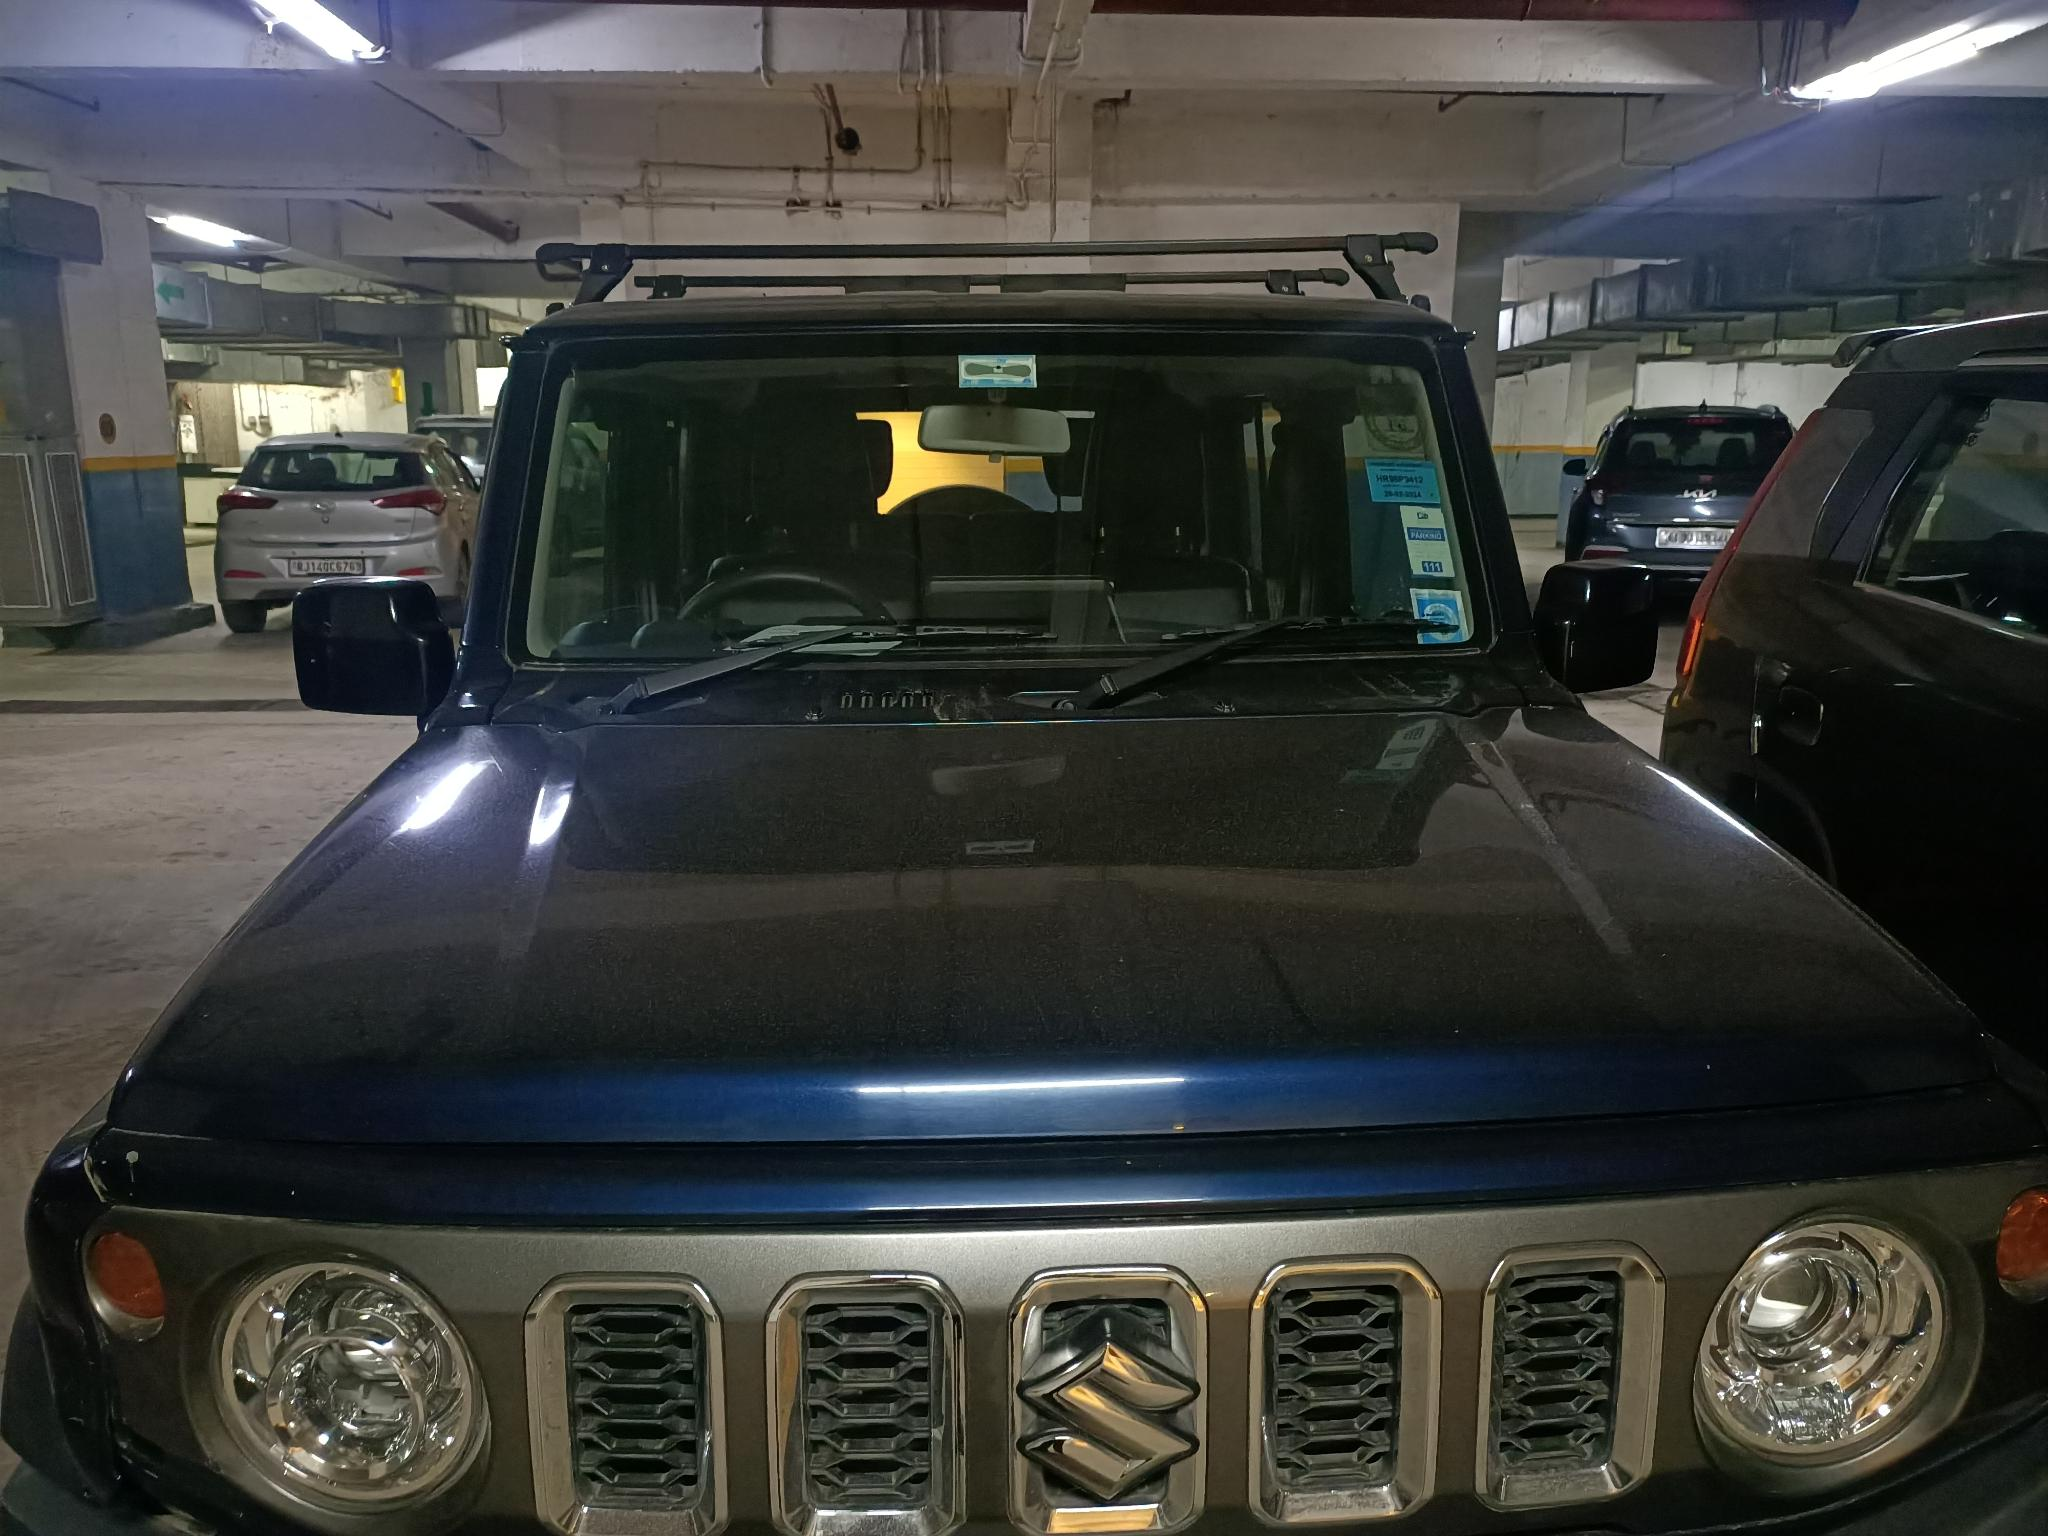FastTag: (939, 344, 1059, 395)
not a FastTag: (1400, 507, 1458, 582), (1356, 455, 1443, 505), (1406, 591, 1476, 649)
